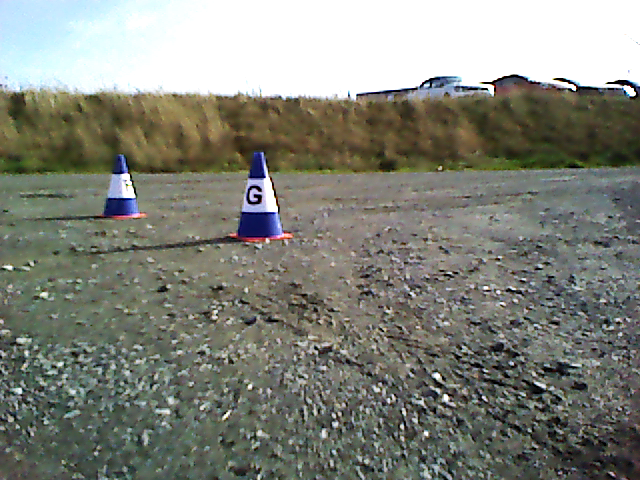bluecone: (238, 150, 282, 235), (105, 154, 140, 215)
